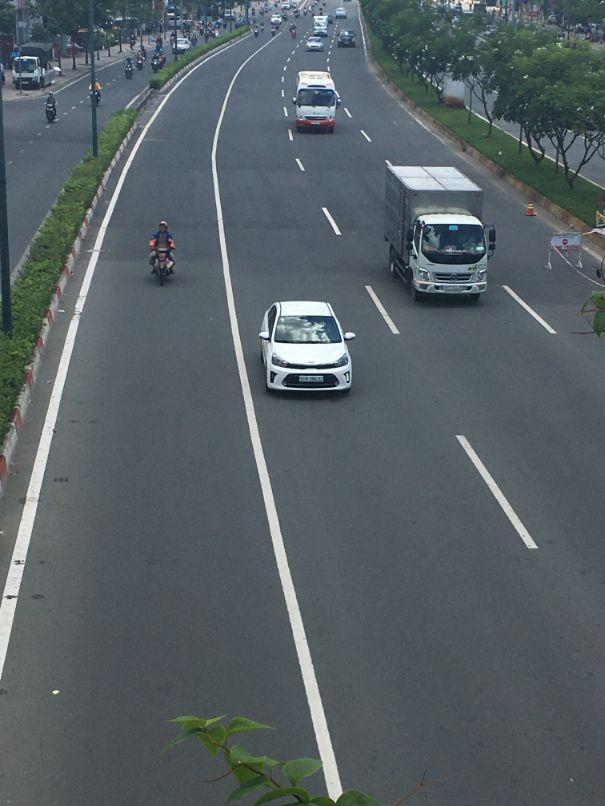car: (257, 301, 355, 397), (293, 73, 339, 136), (305, 36, 324, 51), (340, 31, 356, 47)
motorbike: (148, 245, 176, 286)
truck: (384, 161, 491, 304), (12, 42, 62, 90)
